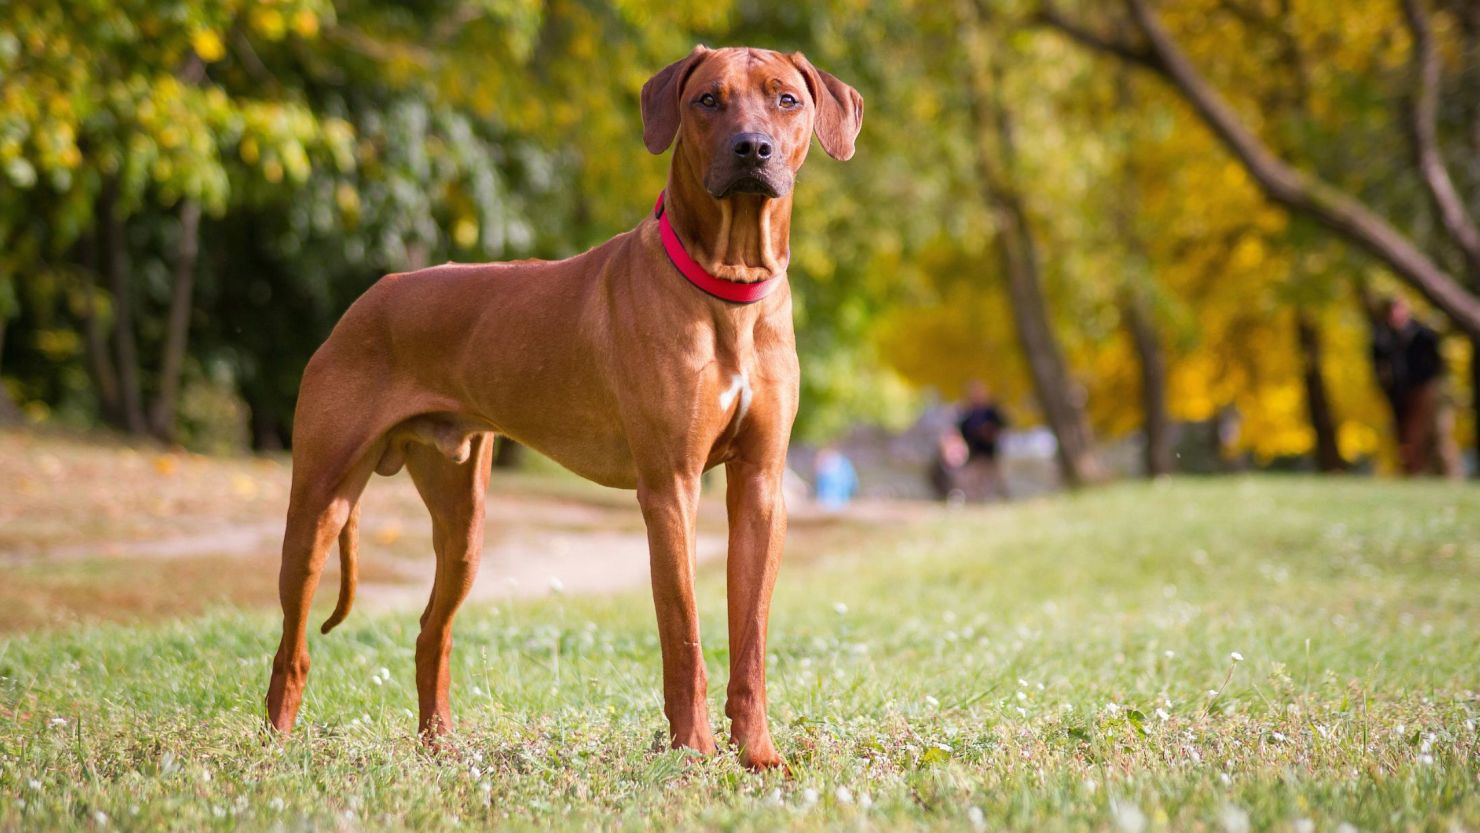dog: (258, 42, 872, 779)
